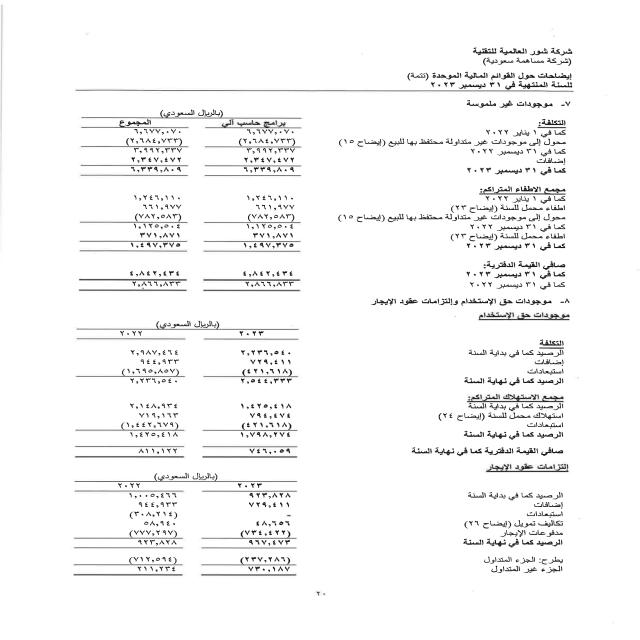notes: (399, 70, 575, 81)
table: (52, 316, 304, 586), (72, 100, 310, 291)
